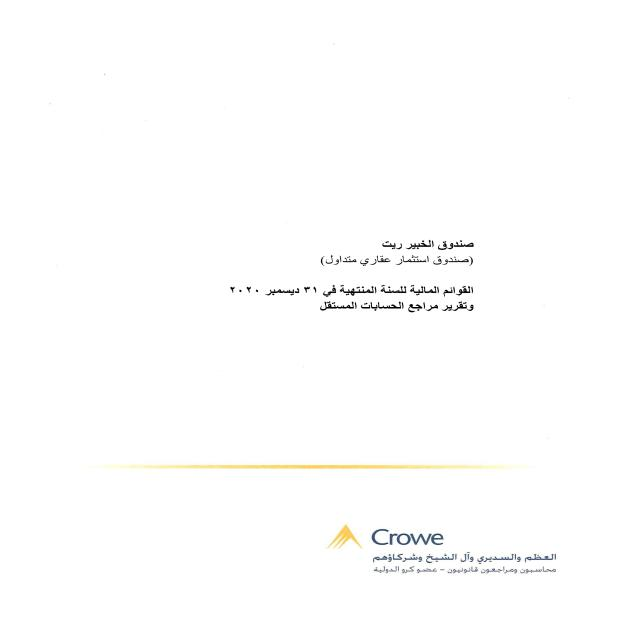other: (150, 216, 503, 385)
